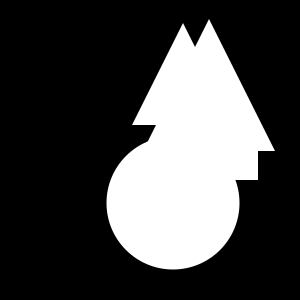circle: (199, 121, 258, 180)
rectangle: (106, 136, 240, 270)
triangle: (143, 19, 275, 151), (132, 23, 234, 125)
